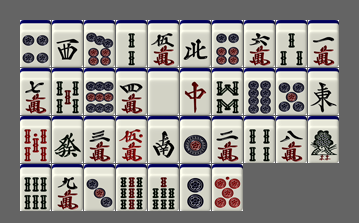0m: (116, 116, 147, 163)
0p: (212, 164, 243, 211)
0s: (20, 116, 51, 163)
1m: (308, 20, 339, 67)
1p: (180, 116, 211, 163)
1s: (308, 116, 339, 163)
1z: (308, 68, 339, 115)
2m: (212, 116, 243, 163)
2p: (180, 164, 211, 211)
2s: (116, 20, 147, 67)
2z: (148, 116, 179, 163)
3m: (84, 116, 115, 163)
3p: (84, 164, 115, 211)
3s: (276, 20, 307, 67)
3z: (52, 20, 83, 67)
4m: (116, 68, 147, 115)
4p: (20, 20, 51, 67)
4s: (244, 116, 275, 163)
4z: (180, 20, 211, 67)
5m: (148, 20, 179, 67)
5p: (276, 68, 307, 115)
5s: (52, 68, 83, 115)
5z: (148, 68, 179, 115)
6m: (244, 20, 275, 67)
6p: (212, 20, 243, 67)
6s: (20, 164, 51, 211)
6z: (52, 116, 83, 163)
7m: (20, 68, 51, 115)
7p: (84, 20, 115, 67)
7s: (148, 164, 179, 211)
7z: (180, 68, 211, 115)
8m: (276, 116, 307, 163)
8p: (244, 68, 275, 115)
8s: (212, 68, 243, 115)
9m: (52, 164, 83, 211)
9p: (84, 68, 115, 115)
9s: (116, 164, 147, 211)
